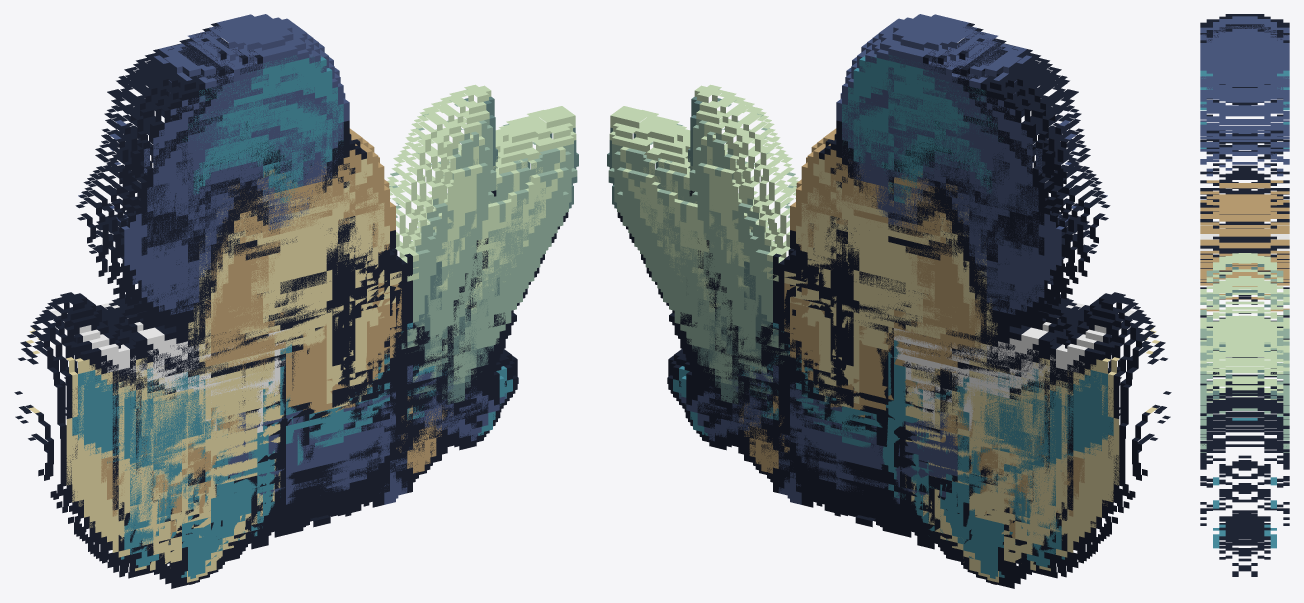
File: guerreiro_correndo.glb
3 views of the same model, side by side, from view 1: azimuth 30°, elevation 25°; view 2: azimuth 150°, elevation 25°; view 3: azimuth 270°, elevation 25° (orthographic). The views are drawn at different scales.
Parts seen in each view (by area): view 1: q0, q1, q4, q2, q5, q3; view 2: q0, q1, q4, q2, q5, q3; view 3: q1, q4, q2, q5, q0, q3.
Boxes of the visible parts, x1=… form: q0: x1=65, y1=81, x2=530, y2=582; q1: x1=97, y1=20, x2=497, y2=526; q4: x1=14, y1=28, x2=578, y2=566; q2: x1=105, y1=14, x2=495, y2=540; q5: x1=20, y1=41, x2=552, y2=578; q3: x1=64, y1=80, x2=530, y2=588; q0: x1=655, y1=80, x2=1120, y2=582; q1: x1=688, y1=20, x2=1088, y2=526; q4: x1=607, y1=28, x2=1171, y2=567; q2: x1=690, y1=14, x2=1080, y2=543; q5: x1=633, y1=41, x2=1165, y2=578; q3: x1=655, y1=92, x2=1121, y2=588; q1: x1=1200, y1=27, x2=1289, y2=536; q4: x1=1200, y1=24, x2=1289, y2=544; q2: x1=1200, y1=29, x2=1289, y2=576; q5: x1=1200, y1=14, x2=1289, y2=550; q0: x1=1200, y1=69, x2=1289, y2=559; q3: x1=1200, y1=64, x2=1289, y2=561.
Size of the model in its own units: 93 by 88 by 14.
1 material, 1 textured.
